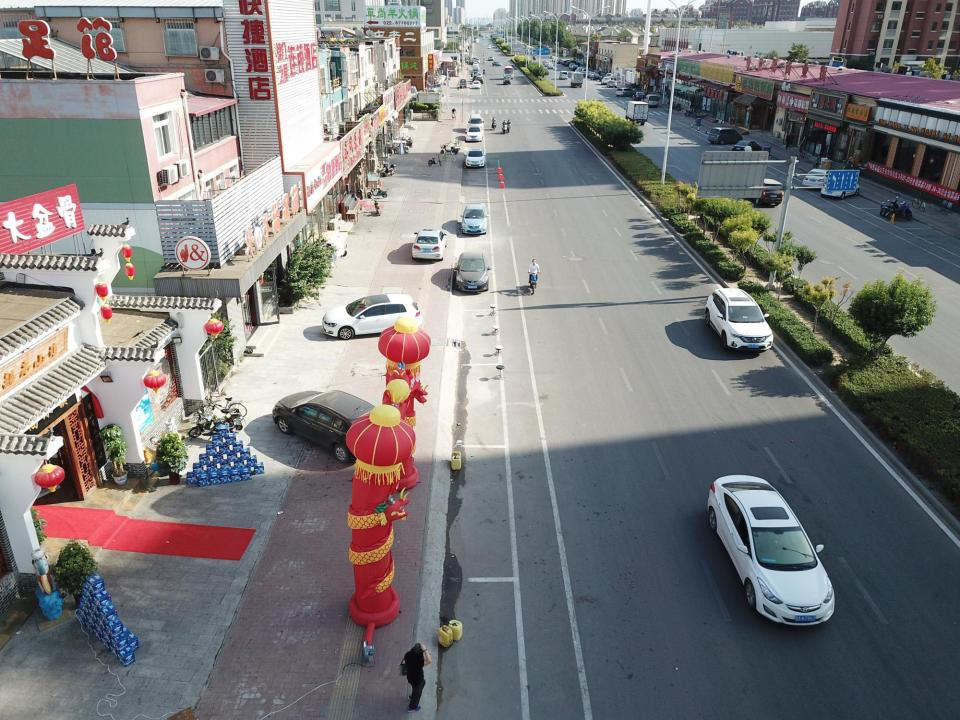bus: (504, 65, 514, 80)
car: (707, 474, 836, 628), (271, 390, 382, 464), (321, 294, 423, 340), (704, 287, 774, 352), (454, 252, 492, 292), (411, 229, 447, 262), (820, 174, 860, 199), (459, 204, 490, 235), (802, 168, 838, 190), (731, 140, 762, 156), (464, 148, 486, 168), (465, 126, 483, 142), (615, 87, 635, 97), (632, 92, 646, 100), (606, 80, 617, 88), (565, 60, 579, 66), (472, 80, 481, 89), (503, 76, 511, 86), (601, 77, 611, 85), (472, 74, 481, 82), (563, 59, 575, 65), (560, 59, 572, 65), (475, 76, 483, 84), (588, 72, 597, 79), (605, 73, 613, 80), (592, 73, 600, 80), (581, 68, 589, 75), (571, 64, 579, 70), (475, 73, 481, 80), (492, 62, 502, 66), (548, 63, 554, 69), (544, 61, 550, 67), (473, 66, 479, 72), (472, 61, 478, 67), (569, 63, 575, 69)
truck: (624, 100, 649, 126), (569, 72, 584, 88)
van: (742, 177, 784, 207), (708, 127, 742, 145), (468, 114, 484, 132), (643, 94, 659, 108), (630, 88, 641, 98), (559, 70, 568, 80), (459, 78, 467, 89)
